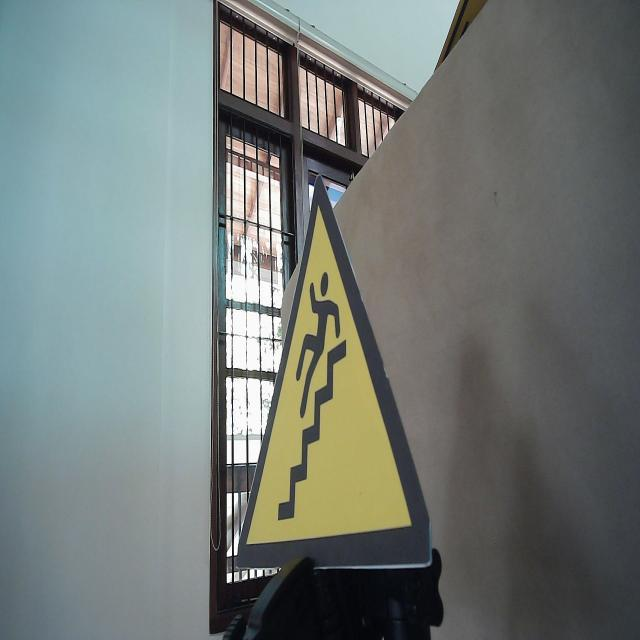stairs: (235, 171, 436, 573)
